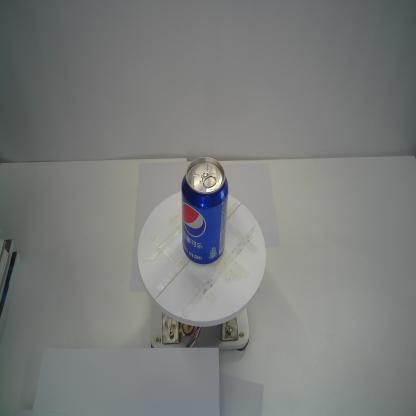Drink: (181, 156, 229, 266)
